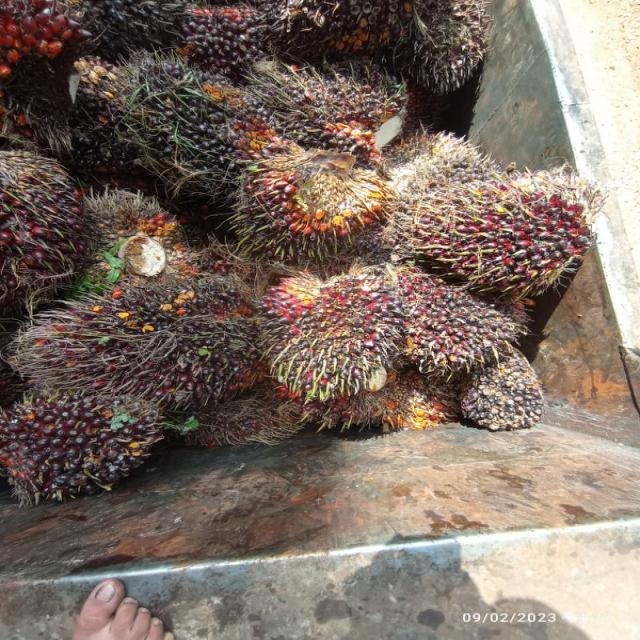fraksi 00: (22, 269, 271, 418), (95, 55, 292, 207), (3, 373, 164, 513), (258, 52, 428, 167), (233, 142, 392, 264), (452, 341, 549, 432)
fraksi 1: (396, 166, 600, 289), (262, 252, 407, 408), (387, 257, 528, 391)
